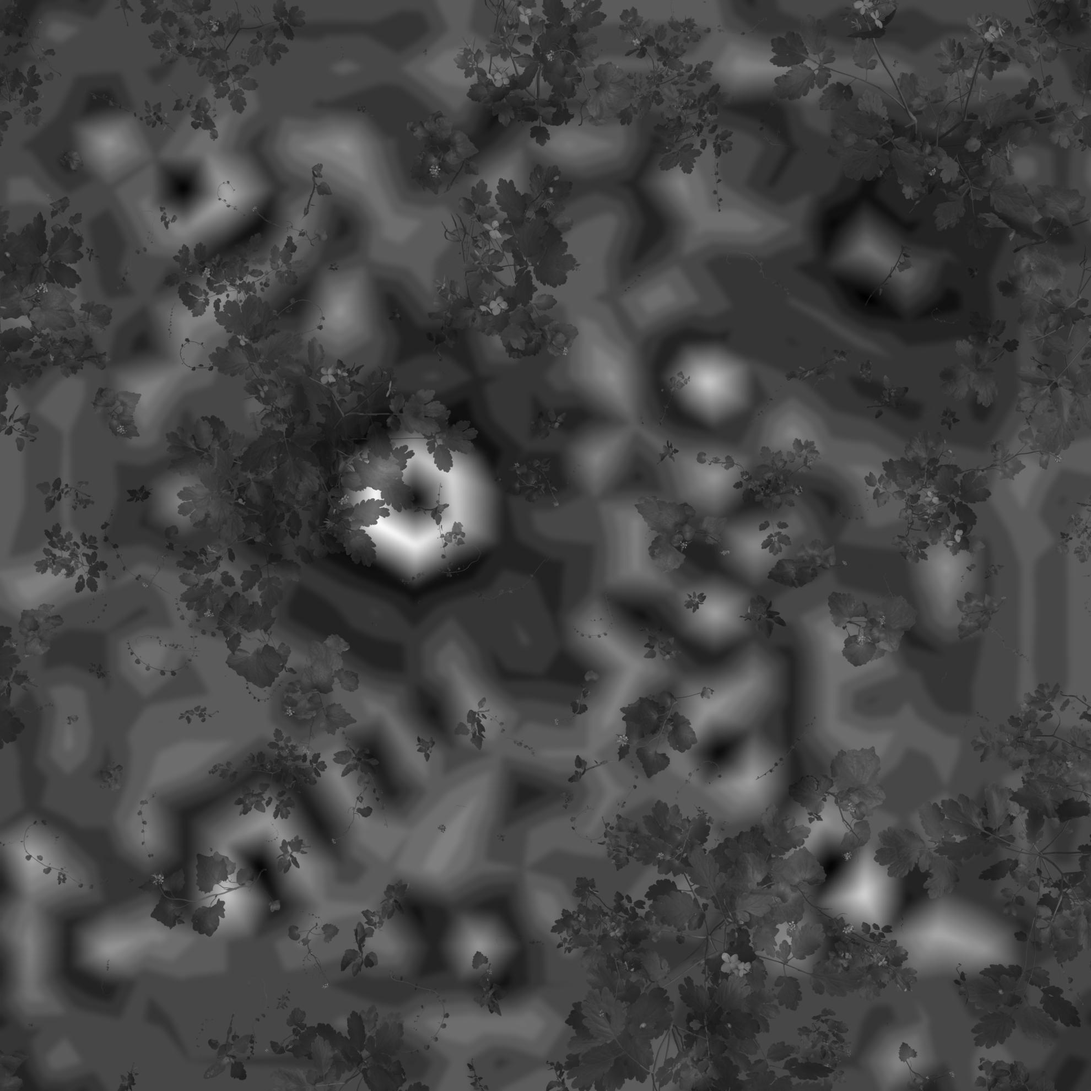landmine: (333, 433, 491, 580), (807, 180, 963, 327)
